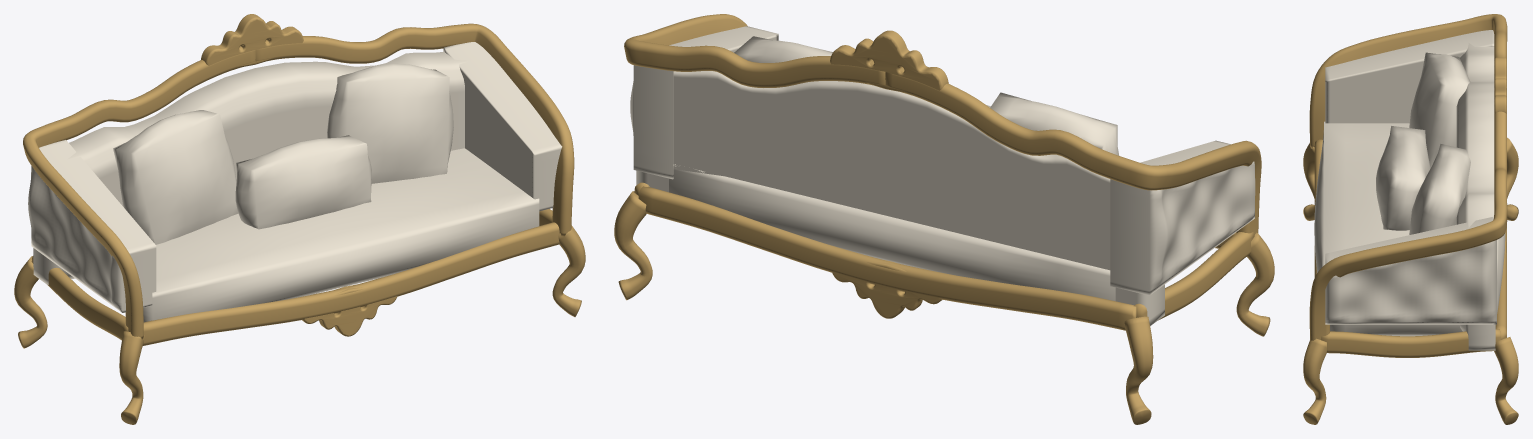
Rendered from ar-sofa-ivory-boucle.glb.
3 views of the same model, side by side, from view 1: azimuth 30°, elevation 25°; view 2: azimuth 150°, elevation 25°; view 3: azimuth 270°, elevation 25° (orthographic). The views are drawn at different scales.
Parts seen in each view (by area): view 1: piece-royal; view 2: piece-royal; view 3: piece-royal.
Boxes of the visible parts, <box> form: piece-royal: <box>14,14,585,424</box>; piece-royal: <box>614,14,1274,424</box>; piece-royal: <box>1303,14,1518,424</box>.
Size of the model in its own units: 2.1 by 1.19 by 0.8838.
